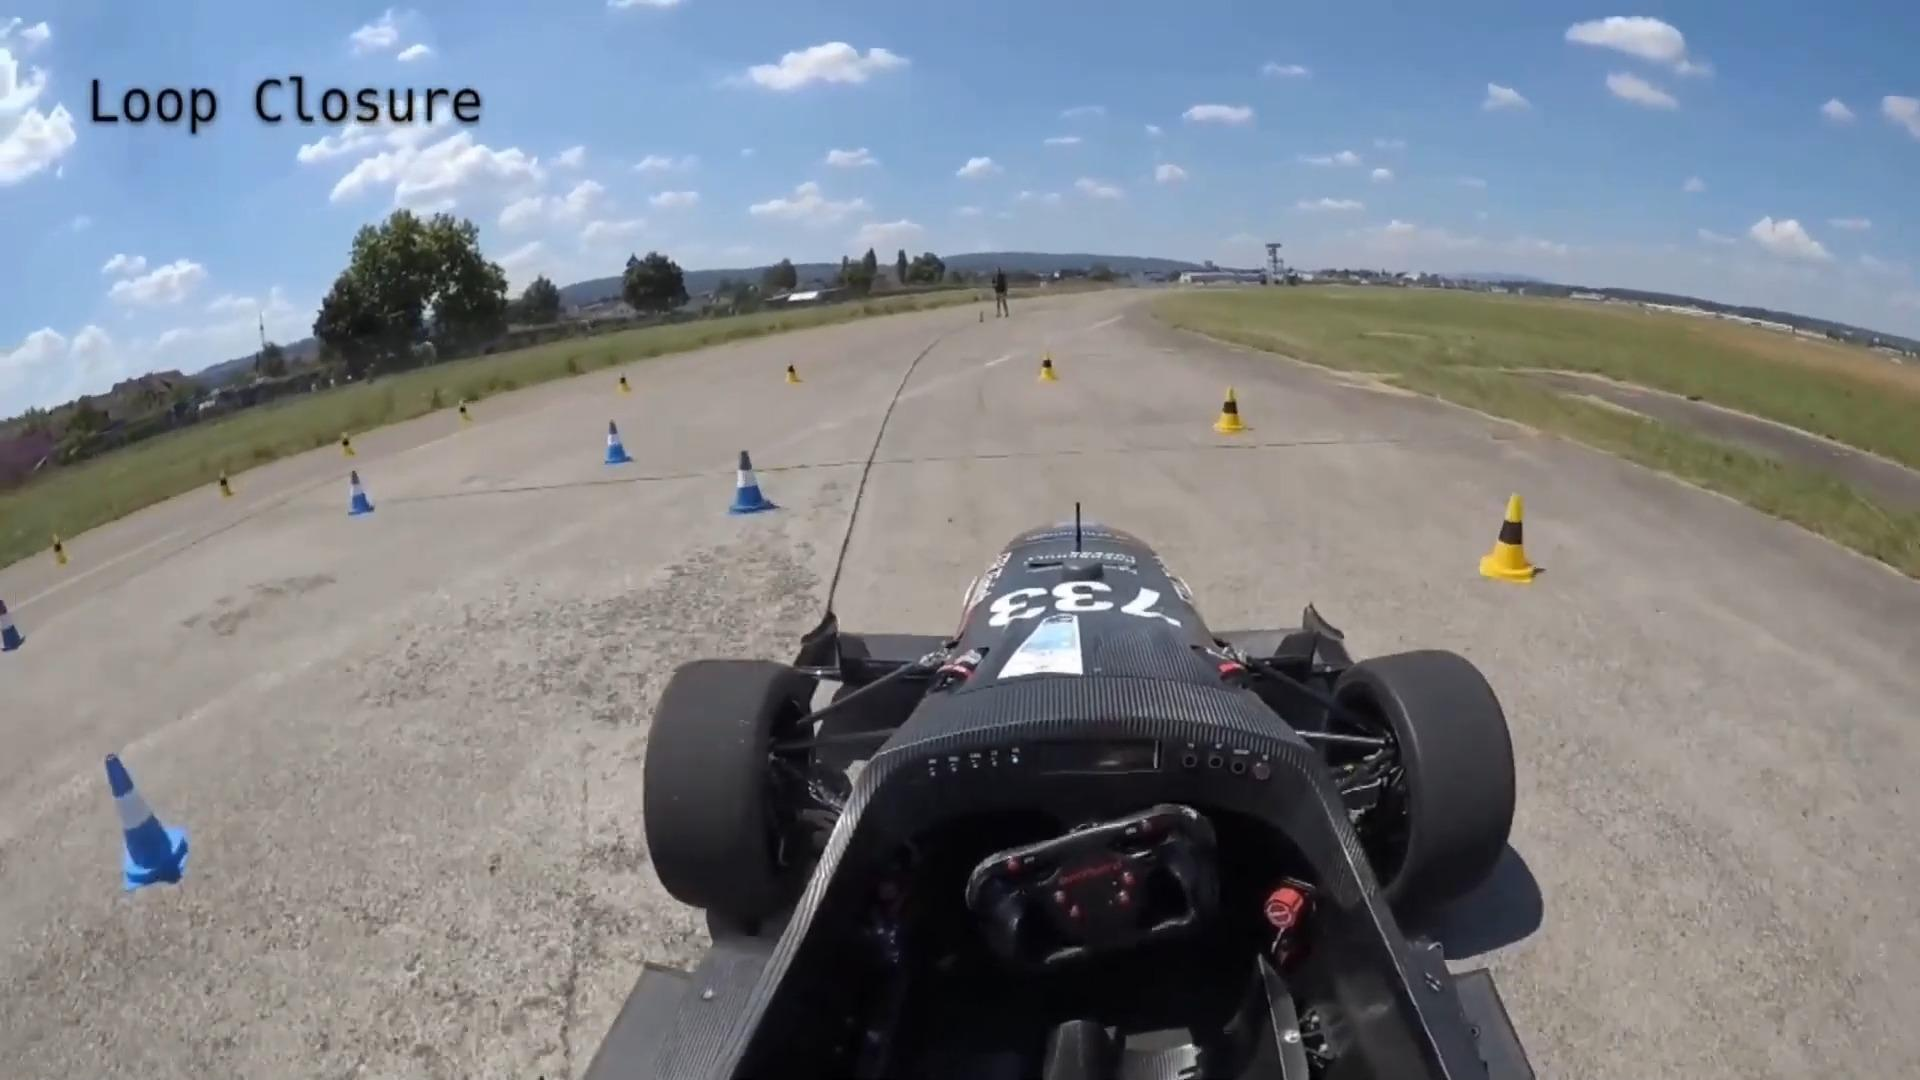blue_cone: (104, 752, 189, 891), (731, 448, 775, 516), (603, 419, 634, 467), (345, 469, 376, 518)
yellow_cone: (1477, 488, 1542, 587), (1211, 384, 1249, 435), (1038, 348, 1060, 384)
